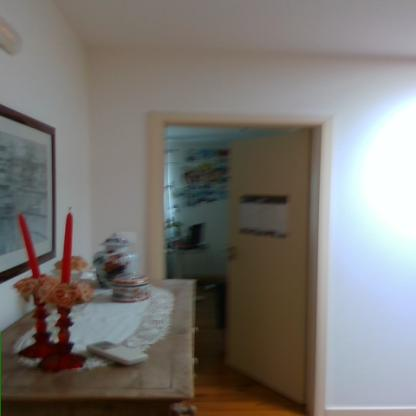open: (126, 90, 344, 400)
